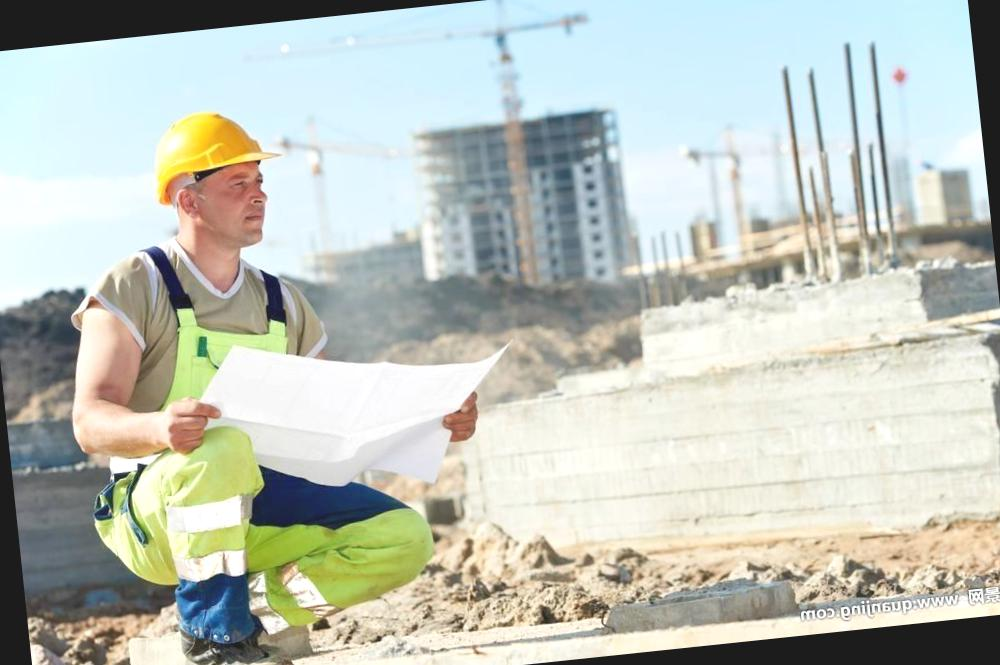helmet: (136, 96, 295, 209)
no_vest: (60, 227, 340, 472)
person: (35, 87, 452, 665)
